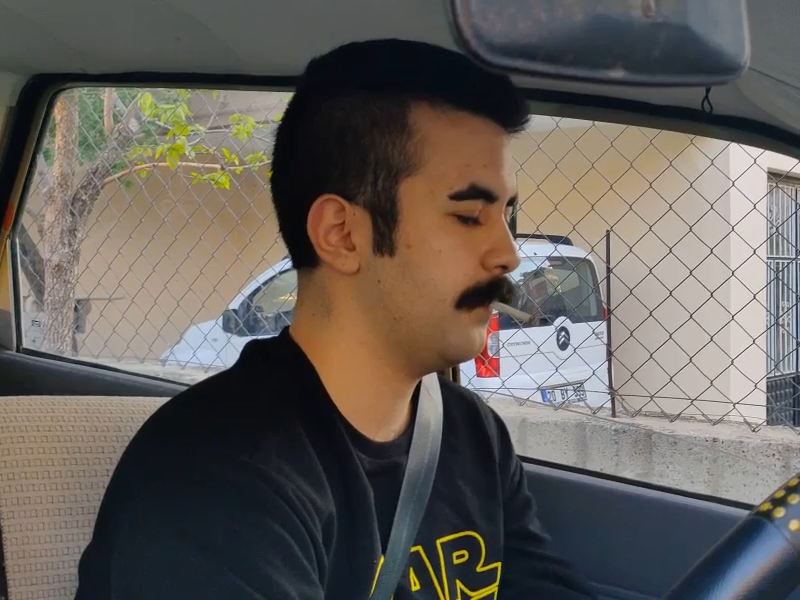sigara: (484, 297, 544, 330)
